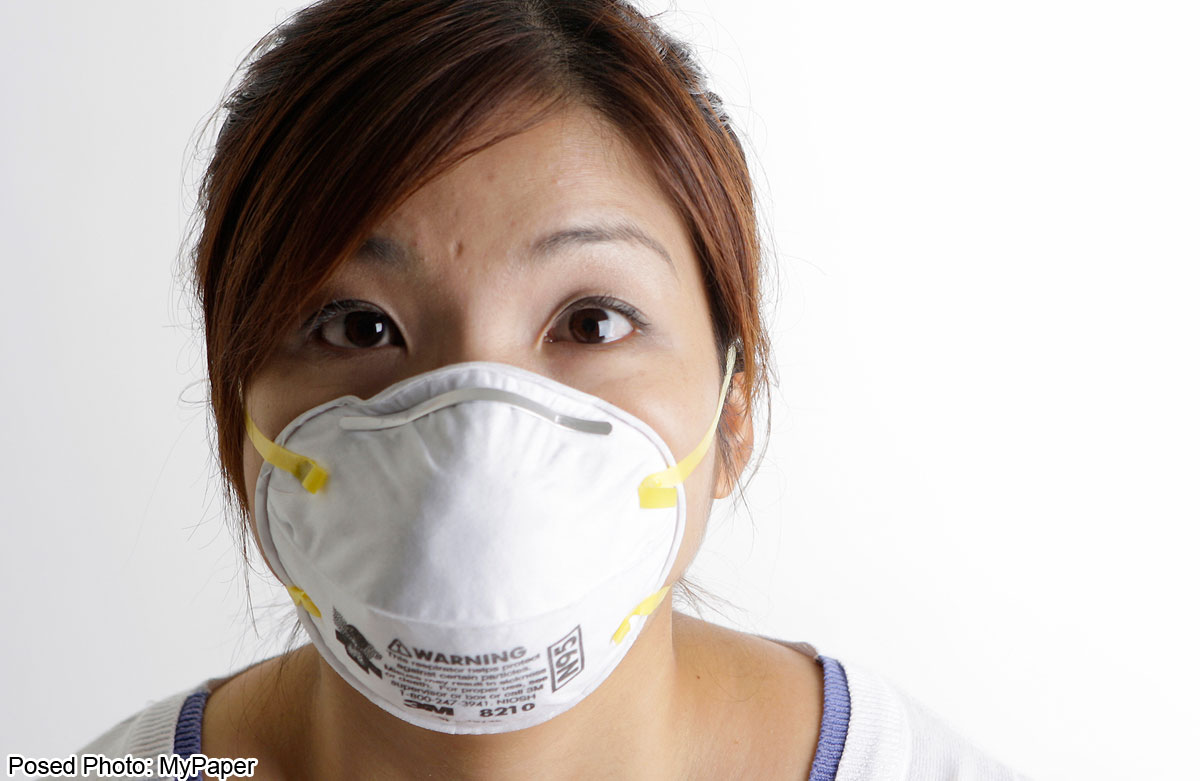n95: (225, 362, 700, 737)
